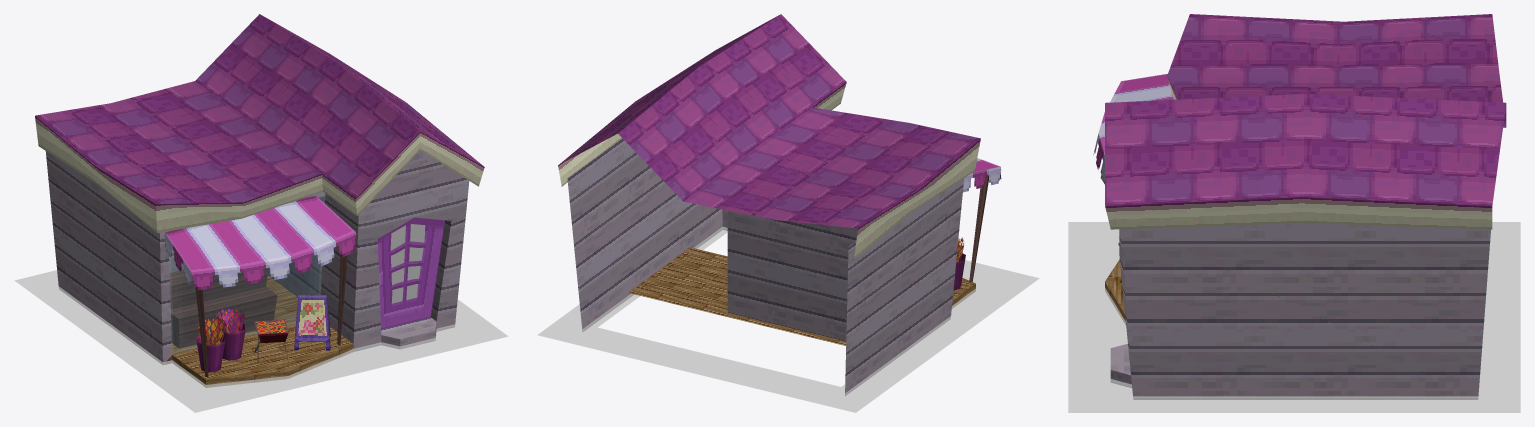
File: Regular Flower Shop.obj
The picture shows the model from 3 angles, left to right: view 1: azimuth 30°, elevation 25°; view 2: azimuth 150°, elevation 25°; view 3: azimuth 270°, elevation 25°; orthographic projection. The views are drawn at different scales.
Visible parts, largest first — view 1: polygon5, polygon8, polygon3, polygon7, polygon9, polygon6, polygon1, polygon4, polygon2, polygon0; view 2: polygon8, polygon5, polygon3, polygon4, polygon6, polygon9, polygon7; view 3: polygon5, polygon8, polygon3, polygon6, polygon7, polygon4.
Part boxes in pixels (<box>): polygon5: <box>35,14,483,204</box>; polygon8: <box>45,150,469,364</box>; polygon3: <box>14,270,508,412</box>; polygon7: <box>164,195,356,290</box>; polygon9: <box>164,254,347,377</box>; polygon6: <box>35,116,484,232</box>; polygon1: <box>169,196,324,354</box>; polygon4: <box>172,275,353,387</box>; polygon2: <box>377,217,445,329</box>; polygon0: <box>390,224,425,303</box>; polygon8: <box>567,138,964,395</box>; polygon5: <box>559,14,980,228</box>; polygon3: <box>537,226,1039,412</box>; polygon4: <box>628,247,975,345</box>; polygon6: <box>558,82,980,258</box>; polygon9: <box>953,174,988,290</box>; polygon7: <box>963,158,1001,192</box>; polygon5: <box>1105,14,1506,206</box>; polygon8: <box>1110,223,1490,399</box>; polygon3: <box>1068,222,1520,412</box>; polygon6: <box>1105,76,1492,229</box>; polygon7: <box>1093,74,1173,184</box>; polygon4: <box>1105,259,1125,324</box>.
Size of the model in its own units: 8 by 5.43 by 8.
